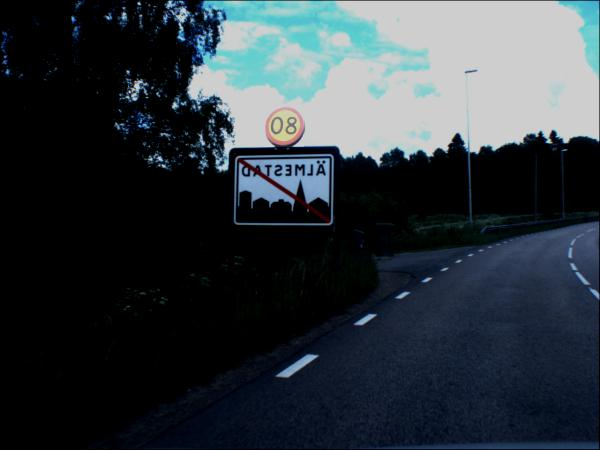80_SIGN: (264, 107, 305, 149)
